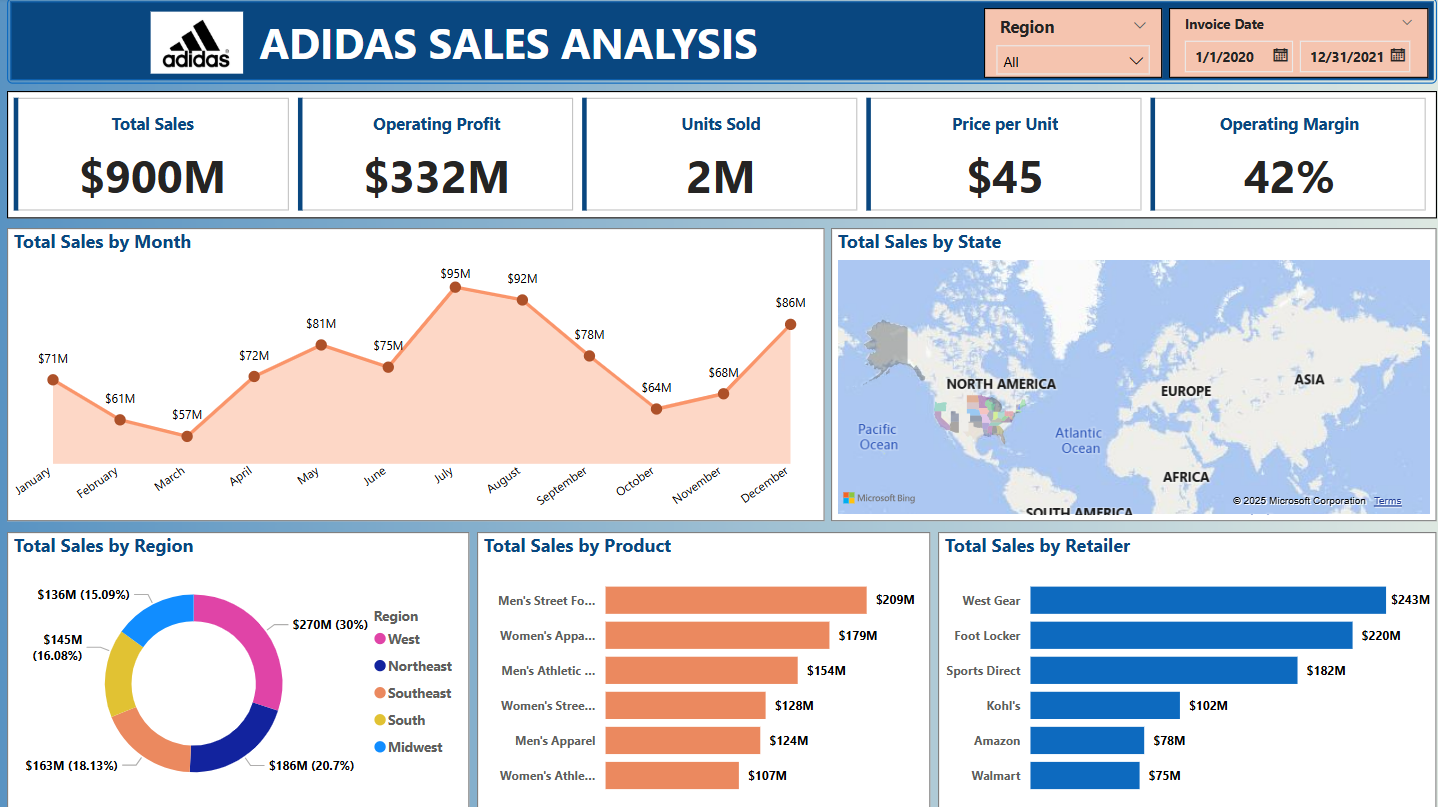

What the dashboard file says about the page in this screenshot:
{"tool":"powerbi","page":{"name":"Page 1","canvas":[1280,720],"ordinal":0},"visuals":[{"type":"shape","box":[5.8,0,1268.3,75.9],"z":0},{"type":"textbox","box":[186.2,8.9,529.4,60.3],"z":1000},{"type":"cardVisual","fields":{"Data":["Sum(Data Sales Adidas.Total Sales)","Sum(Data Sales Adidas.Operating Profit)","Sum(Data Sales Adidas.Units Sold)","Avg(Data Sales Adidas.Price per Unit)","Avg(Data Sales Adidas.Operating Margin)"]},"box":[5.8,82.7,1268.3,112.8],"z":2000},{"type":"areaChart","title":"Total Sales by Month","fields":{"Category":["Data Sales Adidas.Invoice Date.Variation.Date Hierarchy.Month"],"Y":["Sum(Data Sales Adidas.Total Sales)"]},"box":[5.8,204.3,724.6,259.7],"z":3000},{"type":"filledMap","title":"Total Sales by State","fields":{"Category":["Data Sales Adidas.State"],"Series":["Data Sales Adidas.Total Sales"]},"box":[737.3,204.3,536.9,259.7],"z":4000},{"type":"donutChart","fields":{"Category":["Data Sales Adidas.Region"],"Y":["Sum(Data Sales Adidas.Total Sales)"]},"box":[5.8,473.7,410,246.1],"z":6000},{"type":"barChart","title":"Total Sales by Retailer","fields":{"Category":["Data Sales Adidas.Retailer"],"Y":["Sum(Data Sales Adidas.Total Sales)"]},"box":[831.8,473.3,442.4,246.7],"z":7000},{"type":"barChart","title":"Total Sales by Product","fields":{"Category":["Data Sales Adidas.Product"],"Y":["Sum(Data Sales Adidas.Total Sales)"]},"box":[423.1,473.3,401.9,246.7],"z":8000},{"type":"slicer","fields":{"Values":["Data Sales Adidas.Invoice Date"]},"box":[1036.6,8.9,229.7,62.1],"z":9000},{"type":"slicer","fields":{"Values":["Data Sales Adidas.Region"]},"box":[872.5,8.9,157.8,62.1],"z":9001},{"type":"image","box":[128.6,7.1,92.2,64.7],"z":9002}]}

Visuals, with their boxes in screenshot pixels (x1, y1, x2, y2), scaled from the page's 1280x720 canvas onto the 1438x807 screenshot:
shape: Rect(7, 0, 1431, 85)
textbox: Rect(209, 10, 804, 78)
cardVisual - Sum(Data Sales Adidas.Total Sales) x Sum(Data Sales Adidas.Operating Profit): Rect(7, 93, 1431, 219)
"Total Sales by Month" areaChart: Rect(7, 229, 821, 520)
"Total Sales by State" filledMap: Rect(828, 229, 1431, 520)
donutChart - Data Sales Adidas.Region x Sum(Data Sales Adidas.Total Sales): Rect(7, 531, 467, 806)
"Total Sales by Retailer" barChart: Rect(934, 530, 1431, 806)
"Total Sales by Product" barChart: Rect(475, 530, 927, 806)
slicer - Data Sales Adidas.Invoice Date: Rect(1165, 10, 1423, 80)
slicer - Data Sales Adidas.Region: Rect(980, 10, 1157, 80)
image: Rect(144, 8, 248, 80)
